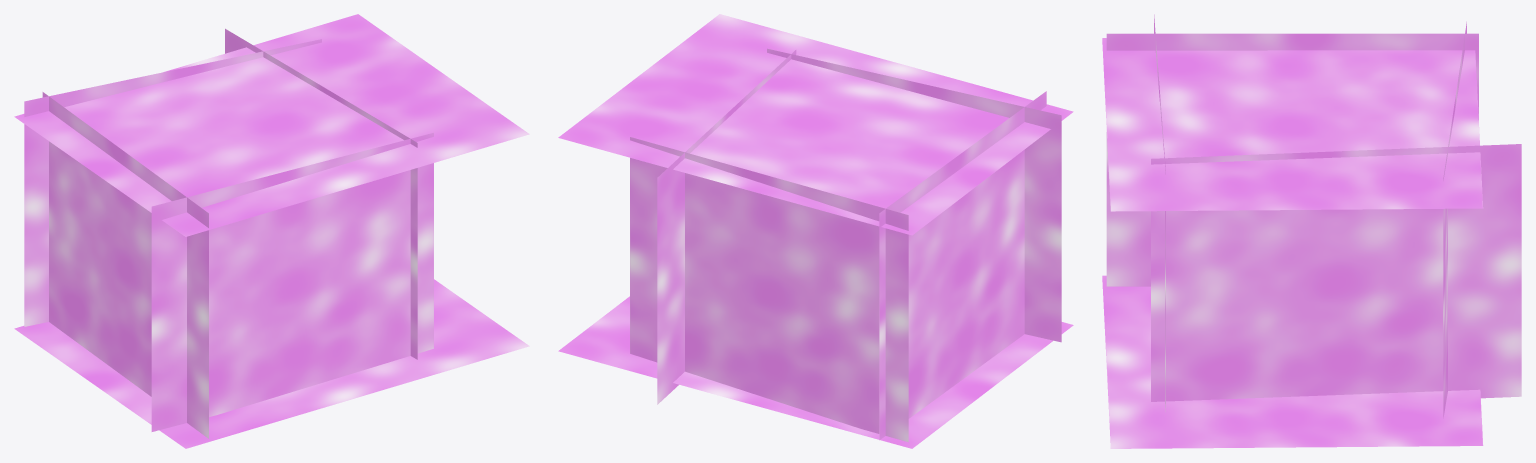
File: 16064_autosave222.glb
3 renders of one model, left to right at view 1: azimuth 30°, elevation 25°; view 2: azimuth 150°, elevation 25°; view 3: azimuth 270°, elevation 25°, orthographic. The views are drawn at different scales.
Visible parts, largest first — view 1: images.004, images.003, images, images.005, images.001, images.002; view 2: images.001, images.004, images, images.003, images.005, images.002; view 3: images.002, images.004, images.005, images, images.001, images.003.
Part boxes in pixels (x1,y1,x2,y2): images.004: (14, 14, 529, 236); images.003: (151, 132, 433, 431); images: (42, 92, 208, 438); images.005: (14, 279, 529, 448); images.001: (24, 39, 321, 326); images.002: (225, 28, 417, 359); images.001: (630, 137, 908, 442); images.004: (558, 14, 1073, 235); images: (879, 91, 1046, 440); images.003: (767, 48, 1061, 342); images.005: (558, 296, 1073, 448); images.002: (657, 50, 796, 404); images.002: (1151, 144, 1521, 401); images.004: (1102, 38, 1483, 211); images.005: (1102, 275, 1483, 448); images: (1106, 33, 1478, 286); images.001: (1443, 21, 1466, 418); images.003: (1154, 14, 1165, 411).
Bounding box in the file's own units: 14597 × 8860 × 13188.
13 materials, 6 textured.
